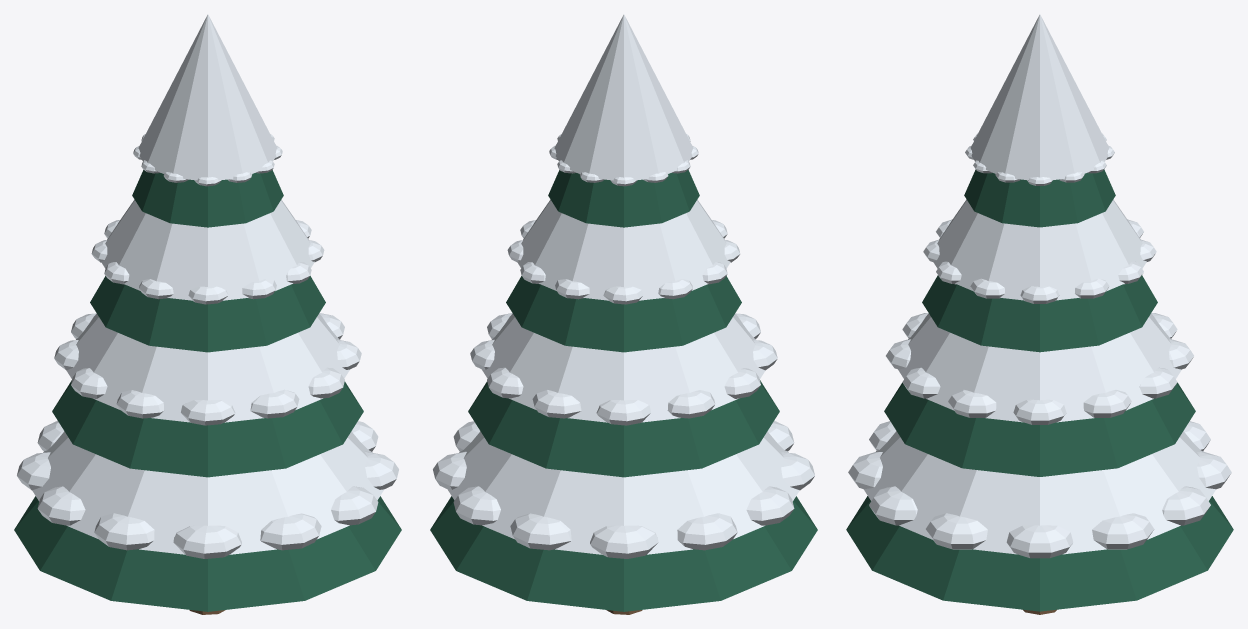
File: snow_pine.glb
3 views of the same model, side by side, from view 1: azimuth 30°, elevation 25°; view 2: azimuth 150°, elevation 25°; view 3: azimuth 270°, elevation 25° (orthographic).
Parts seen in each view (by area): view 1: snow_pine_snow, snow_pine_green; view 2: snow_pine_snow, snow_pine_green; view 3: snow_pine_snow, snow_pine_green.
Boxes of the visible parts, x1=… form: snow_pine_snow: x1=17, y1=14, x2=398, y2=558; snow_pine_green: x1=14, y1=170, x2=401, y2=611; snow_pine_snow: x1=433, y1=14, x2=814, y2=558; snow_pine_green: x1=430, y1=170, x2=817, y2=611; snow_pine_snow: x1=848, y1=14, x2=1231, y2=558; snow_pine_green: x1=846, y1=169, x2=1233, y2=611.
Bounding box in the file's own units: 9.2 × 15.5 × 9.2.
